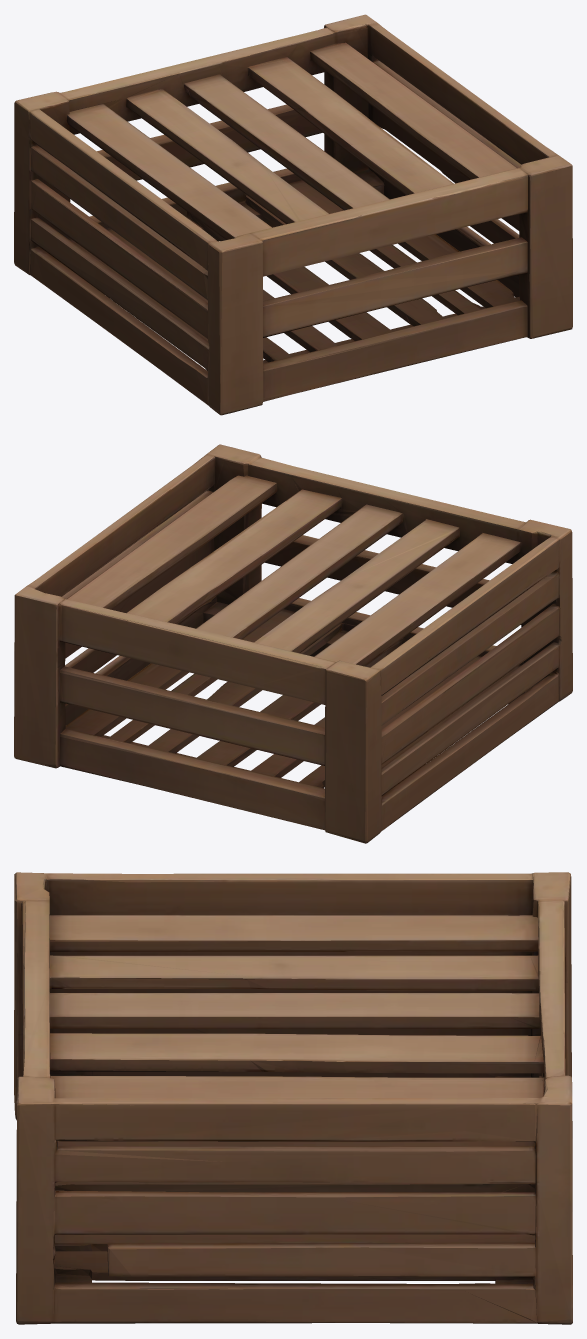
Rendered from crate-hollow.glb.
3 views of the same model, one above another, from view 1: azimuth 30°, elevation 25°; view 2: azimuth 150°, elevation 25°; view 3: azimuth 270°, elevation 25° (orthographic). The views are drawn at different scales.
Visible parts, largest first — view 1: geometry_0; view 2: geometry_0; view 3: geometry_0.
Boxes of the visible parts, left/top/right/bottom form: geometry_0: left=14, top=14, right=572, bottom=415; geometry_0: left=14, top=444, right=572, bottom=843; geometry_0: left=14, top=872, right=572, bottom=1324.
Bounding box in the file's own units: 0.9678 × 0.4321 × 0.9827.
Materials: 1 (1 with a texture image).
